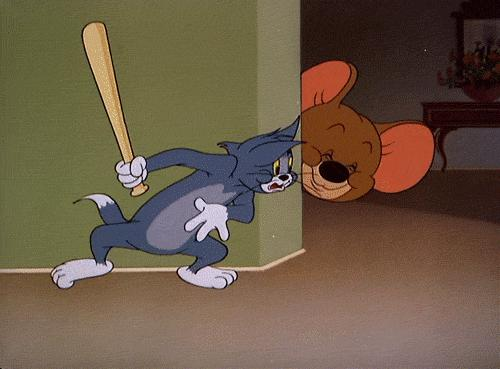tom: (50, 116, 310, 291)
